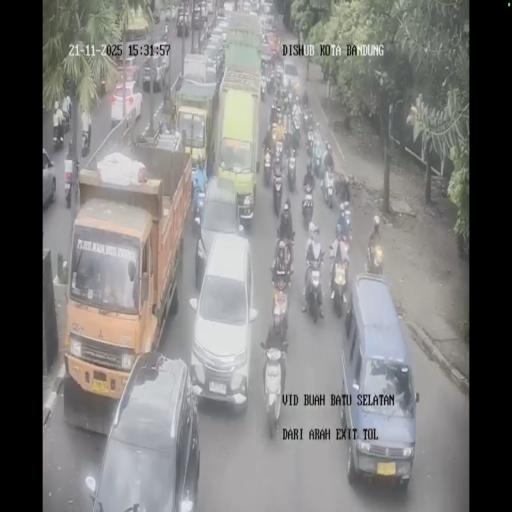3: (64, 142, 191, 420), (172, 80, 217, 185)
car: (340, 275, 416, 484), (195, 177, 245, 283), (111, 79, 142, 127), (143, 45, 169, 91), (202, 41, 225, 83), (42, 146, 56, 208), (282, 59, 299, 92), (260, 40, 274, 74), (214, 16, 230, 43), (263, 14, 275, 32), (260, 0, 272, 16), (198, 0, 208, 18), (164, 6, 174, 22), (223, 1, 234, 14), (248, 7, 258, 18)
truck: (260, 343, 287, 436), (302, 252, 325, 322), (269, 281, 291, 342), (329, 258, 348, 316), (270, 160, 284, 213), (366, 235, 384, 276), (321, 162, 335, 208), (336, 221, 352, 259), (301, 182, 315, 225), (285, 147, 297, 191), (335, 172, 351, 204), (64, 158, 74, 208), (263, 144, 273, 186), (52, 115, 64, 148), (313, 140, 323, 176), (283, 109, 294, 140), (303, 105, 314, 135), (291, 117, 301, 150), (274, 58, 284, 87), (265, 67, 275, 94), (306, 133, 314, 161), (62, 107, 70, 133), (260, 74, 267, 100)
